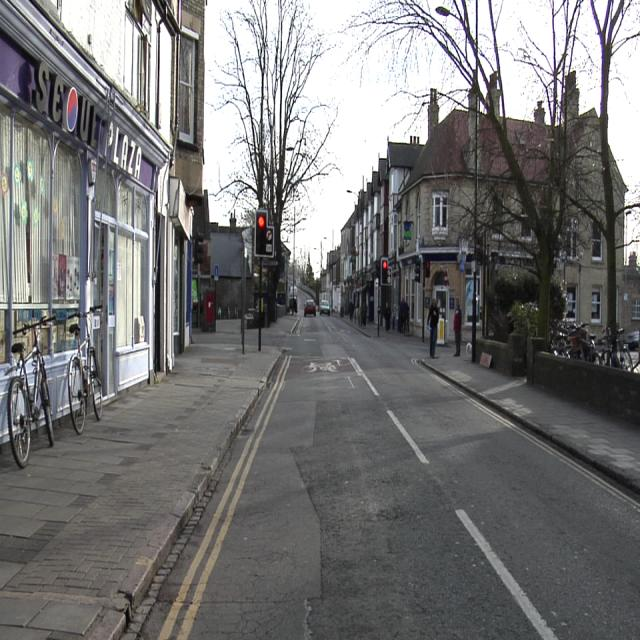Building: (1, 0, 252, 424), (321, 92, 472, 342)
Car: (304, 300, 315, 315), (320, 301, 330, 314)
Road: (129, 316, 638, 638)
Tree: (344, 3, 639, 335), (216, 0, 335, 232)
person: (428, 301, 439, 356)
